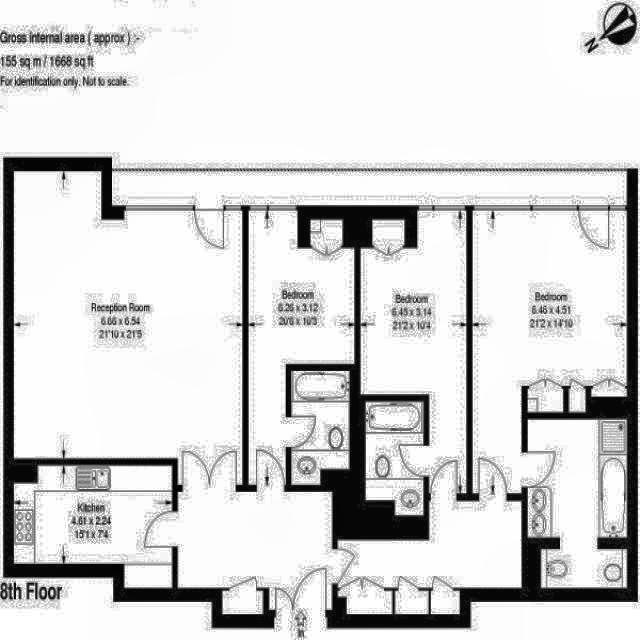room: (14, 171, 244, 485), (472, 208, 627, 493), (360, 210, 467, 493), (248, 210, 356, 485), (337, 500, 522, 614), (14, 465, 173, 588), (177, 492, 333, 610), (527, 418, 627, 537), (365, 400, 423, 516), (291, 371, 350, 485), (541, 549, 627, 588), (222, 590, 264, 614)
